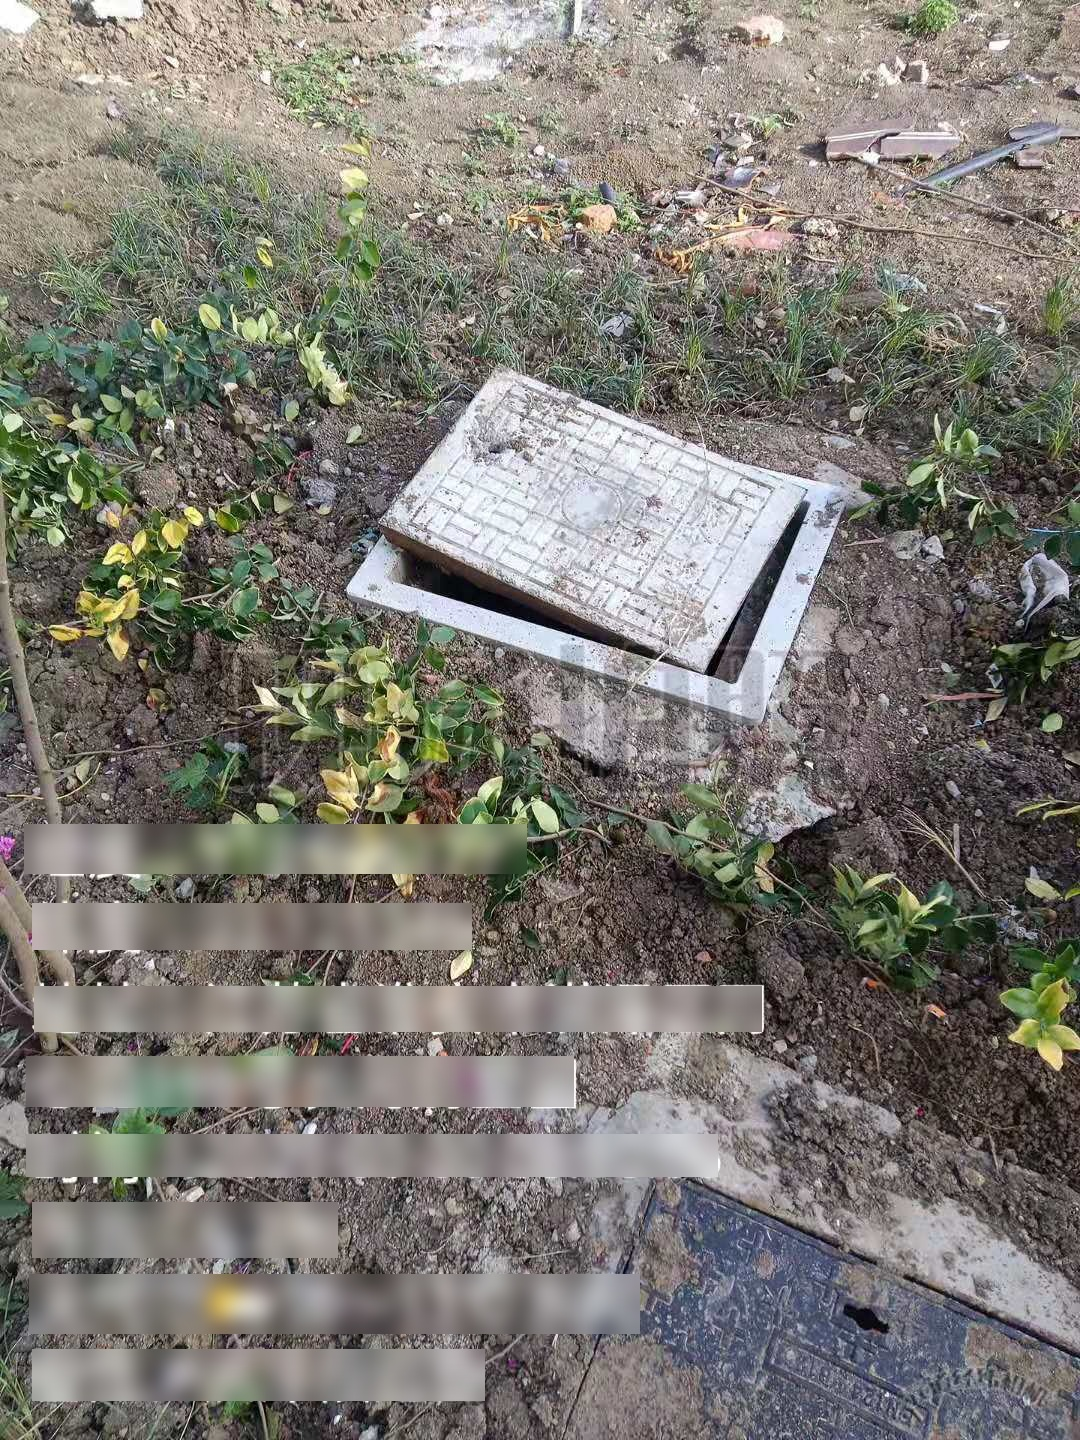uncovered: (341, 367, 852, 715)
